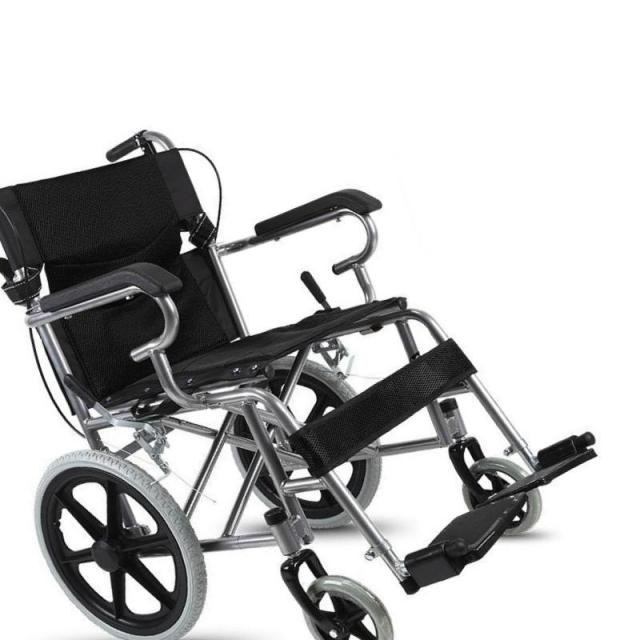wheelchair: (7, 124, 626, 640)
